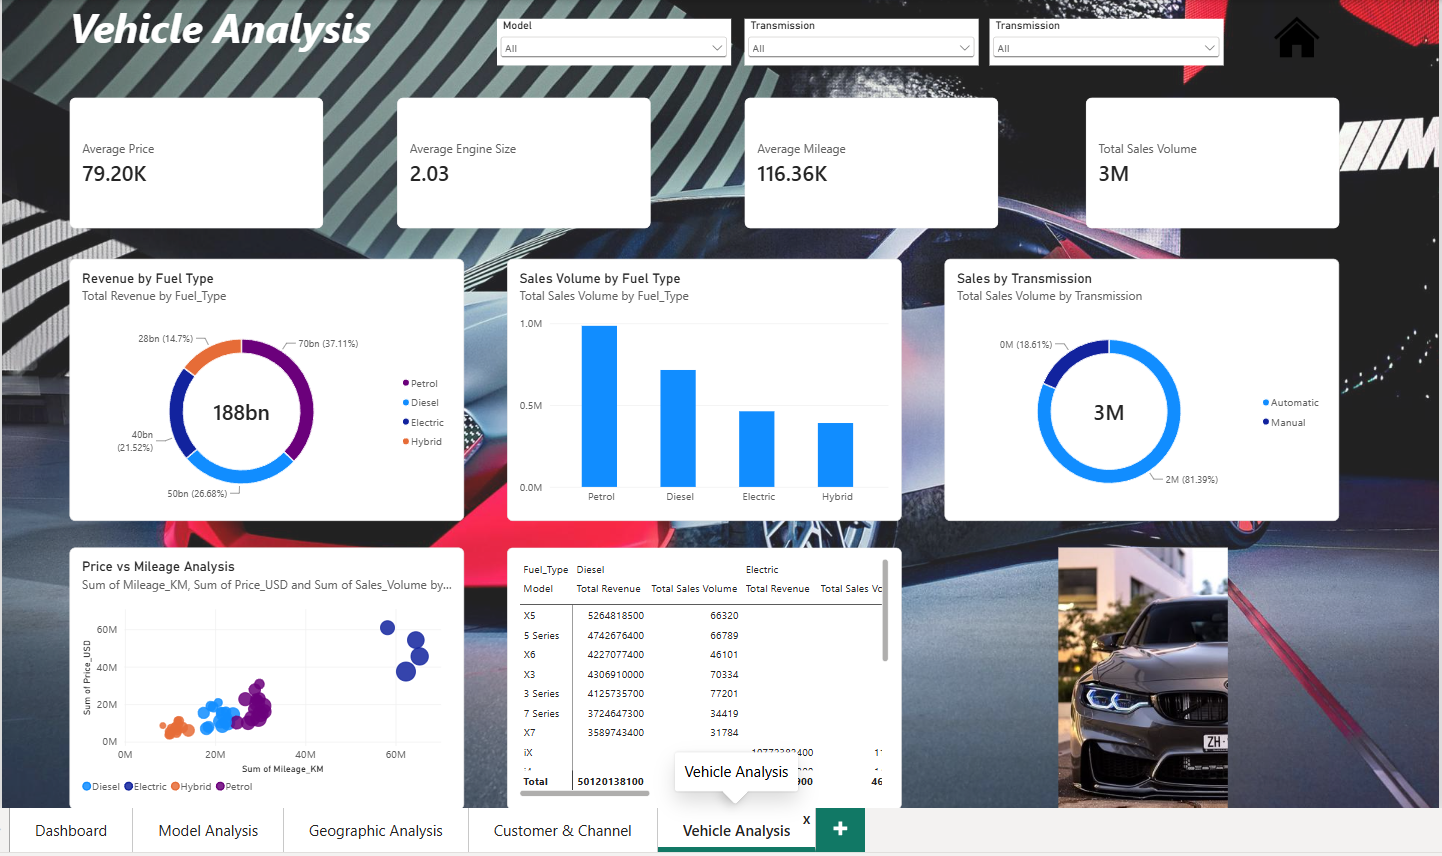

What the dashboard file says about the page in this screenshot:
{"tool":"powerbi","page":{"name":"Vehicle Analysis","canvas":[1920,1080],"ordinal":4},"visuals":[{"type":"textbox","box":[90.6,0,430.2,74.1],"z":0},{"type":"cardVisual","fields":{"Data":["measure.Average Price"]},"box":[90.6,129.7,339.6,175],"z":1000},{"type":"cardVisual","fields":{"Data":["measure.Average Engine Size"]},"box":[526.9,129.7,339.6,175],"z":2000},{"type":"cardVisual","fields":{"Data":["measure.Average Mileage"]},"box":[992.1,129.7,339.6,175],"z":3000},{"type":"cardVisual","fields":{"Data":["measure.Total Sales Volume"]},"box":[1447,129.7,339.6,175],"z":4000},{"type":"donutChart","title":"Revenue by Fuel Type","fields":{"Y":["measure.Total Revenue"],"Category":["BMW_Sales.Fuel_Type"]},"box":[90.6,345.8,527.1,350],"z":5000},{"type":"pivotTable","fields":{"Values":["measure.Total Revenue","measure.Total Sales Volume"],"Rows":["BMW_Sales.Model"],"Columns":["BMW_Sales.Fuel_Type"]},"box":[675.1,730.7,527.1,350],"z":6000},{"type":"scatterChart","title":"Price vs Mileage Analysis","fields":{"X":["Sum(BMW_Sales.Mileage_KM)"],"Y":["Sum(BMW_Sales.Price_USD)"],"Series":["BMW_Sales.Fuel_Type"],"Size":["Sum(BMW_Sales.Sales_Volume)"],"Category":["BMW_Sales.Model"]},"box":[90.6,730.7,527.1,350],"z":7000},{"type":"columnChart","title":"Sales Volume by Fuel Type","fields":{"Category":["BMW_Sales.Fuel_Type"],"Y":["measure.Total Sales Volume"]},"box":[675.1,345.8,527.1,350],"z":8000},{"type":"donutChart","title":"Sales by Transmission","fields":{"Y":["measure.Total Sales Volume"],"Category":["BMW_Sales.Transmission"]},"box":[1259.7,345.8,527.1,350],"z":9000},{"type":"slicer","fields":{"Values":["BMW_Sales.Transmission"]},"box":[1319.4,24.7,312.5,62.5],"z":10000},{"type":"slicer","fields":{"Values":["BMW_Sales.Transmission"]},"box":[992.1,24.7,312.5,62.5],"z":11000},{"type":"image","box":[1695.8,12.5,66.7,75],"z":12000},{"type":"slicer","fields":{"Values":["BMW_Sales.Model"]},"box":[660.7,24.7,312.5,62.5],"z":13000},{"type":"image","box":[1260,731,527,349],"z":14000}]}

Visuals, with their boxes on the page's 1920x1080 design canvas (x1, y1, x2, y2). These are canvas units, not pixel positions in the 1442x856 screenshot, which may show the page scaled, cropped or inside an application window:
textbox: [x1=91, y1=0, x2=521, y2=74]
cardVisual - measure.Average Price: [x1=91, y1=130, x2=430, y2=305]
cardVisual - measure.Average Engine Size: [x1=527, y1=130, x2=866, y2=305]
cardVisual - measure.Average Mileage: [x1=992, y1=130, x2=1332, y2=305]
cardVisual - measure.Total Sales Volume: [x1=1447, y1=130, x2=1787, y2=305]
"Revenue by Fuel Type" donutChart: [x1=91, y1=346, x2=618, y2=696]
pivotTable - measure.Total Revenue x measure.Total Sales Volume: [x1=675, y1=731, x2=1202, y2=1081]
"Price vs Mileage Analysis" scatterChart: [x1=91, y1=731, x2=618, y2=1081]
"Sales Volume by Fuel Type" columnChart: [x1=675, y1=346, x2=1202, y2=696]
"Sales by Transmission" donutChart: [x1=1260, y1=346, x2=1787, y2=696]
slicer - BMW_Sales.Transmission: [x1=1319, y1=25, x2=1632, y2=87]
slicer - BMW_Sales.Transmission: [x1=992, y1=25, x2=1305, y2=87]
image: [x1=1696, y1=12, x2=1762, y2=88]
slicer - BMW_Sales.Model: [x1=661, y1=25, x2=973, y2=87]
image: [x1=1260, y1=731, x2=1787, y2=1080]
